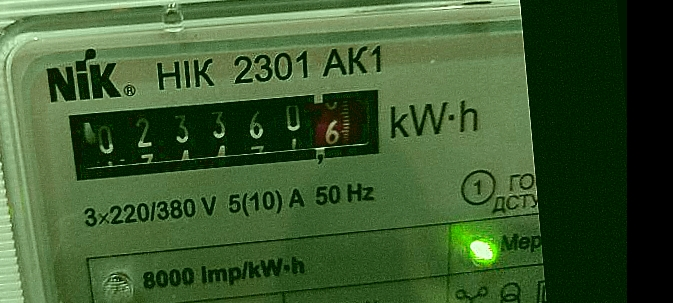0: (92, 120, 116, 155), (282, 100, 302, 132)
2: (130, 114, 156, 150)
3: (168, 111, 192, 144), (207, 106, 228, 139)
6: (243, 106, 265, 140), (319, 114, 342, 145)
screen: (48, 69, 397, 197)
